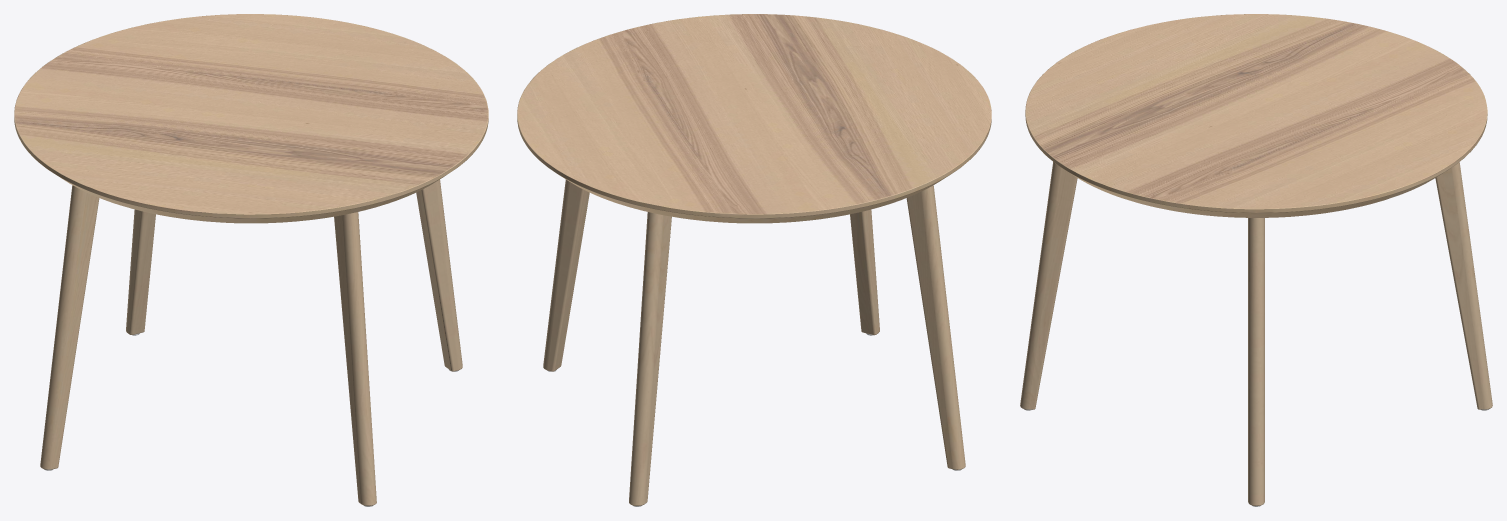
3 renders of one model, left to right at view 1: azimuth 30°, elevation 25°; view 2: azimuth 150°, elevation 25°; view 3: azimuth 270°, elevation 25°, orthographic. The views are drawn at different scales.
Visible parts, largest first — view 1: model; view 2: model; view 3: model.
Part boxes in pixels (x1,y1,x2,y2): model: (14,14,488,506); model: (517,14,991,506); model: (1020,14,1492,506).
Bounding box in the file's own units: 1.07 × 0.7451 × 1.07.
Materials: 1 (1 with a texture image).
